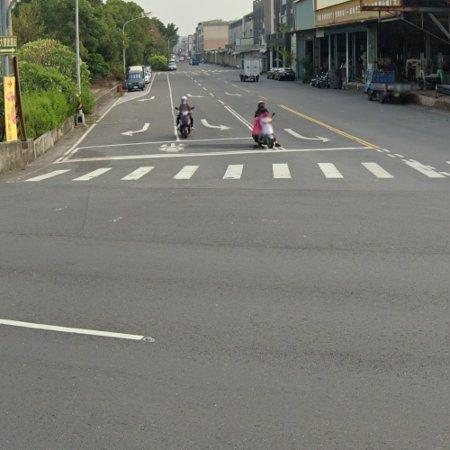crosswalks: (23, 157, 439, 181)
